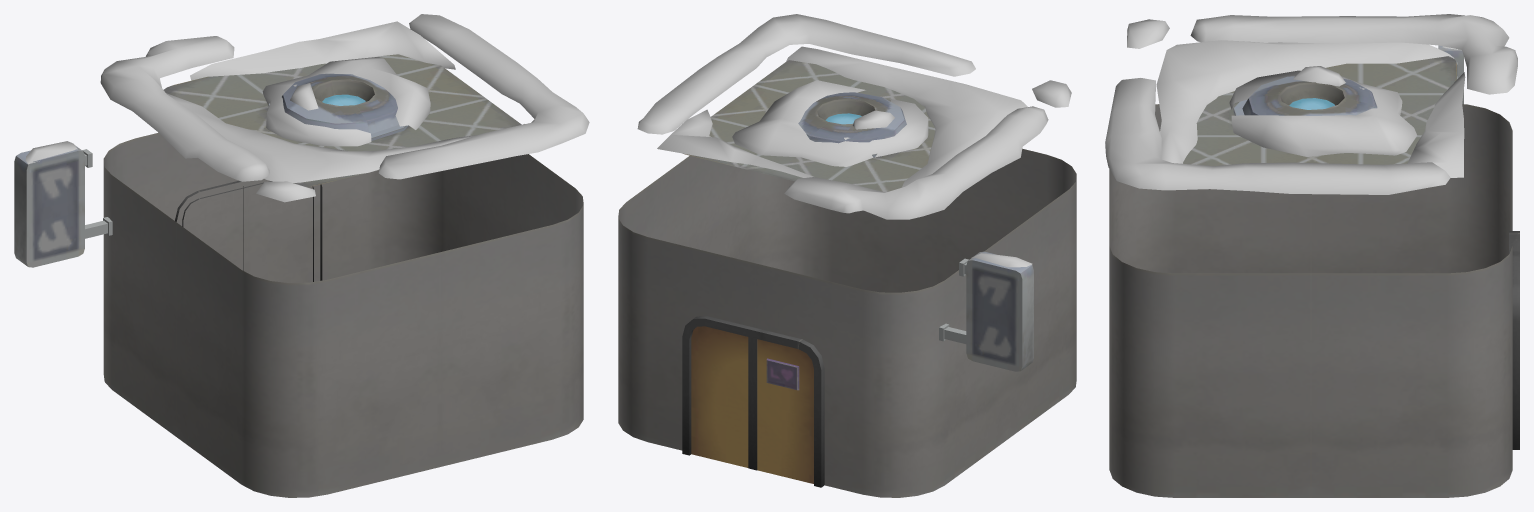
File: pref_sm_city_ramen05d_snow_lv3.fbx
3 views of the same model, side by side, from view 1: azimuth 30°, elevation 25°; view 2: azimuth 150°, elevation 25°; view 3: azimuth 270°, elevation 25° (orthographic). The views are drawn at different scales.
Visible parts, largest first — view 1: sm_city_ramen05d_snow_lv3, sm_city_ramen05d2_snow_lv3; view 2: sm_city_ramen05d_snow_lv3, sm_city_ramen05d2_snow_lv3; view 3: sm_city_ramen05d_snow_lv3, sm_city_ramen05d2_snow_lv3.
Part boxes in pixels (left/top/right/bottom): sm_city_ramen05d_snow_lv3: left=14, top=54, right=583, bottom=497; sm_city_ramen05d2_snow_lv3: left=25, top=14, right=589, bottom=202; sm_city_ramen05d_snow_lv3: left=618, top=60, right=1076, bottom=497; sm_city_ramen05d2_snow_lv3: left=637, top=14, right=1071, bottom=267; sm_city_ramen05d_snow_lv3: left=1109, top=45, right=1519, bottom=497; sm_city_ramen05d2_snow_lv3: left=1105, top=14, right=1517, bottom=194.
Bounding box in the file's own units: 6.85 × 4.82 × 5.52.
